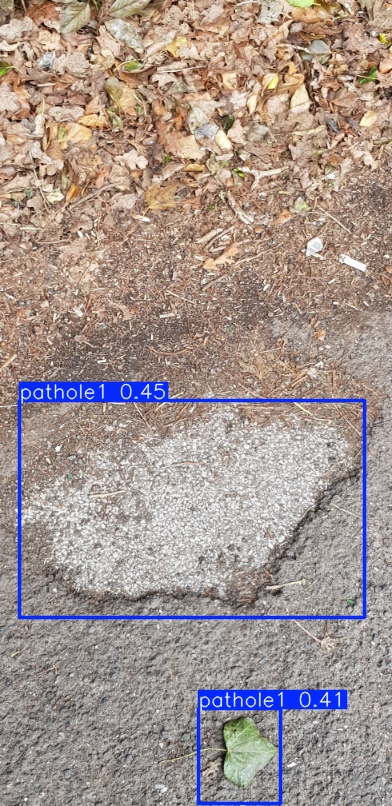pothole: (10, 346, 387, 620)
